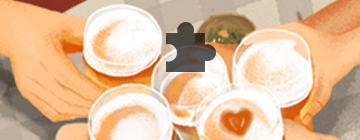target: (166, 22, 216, 72)
